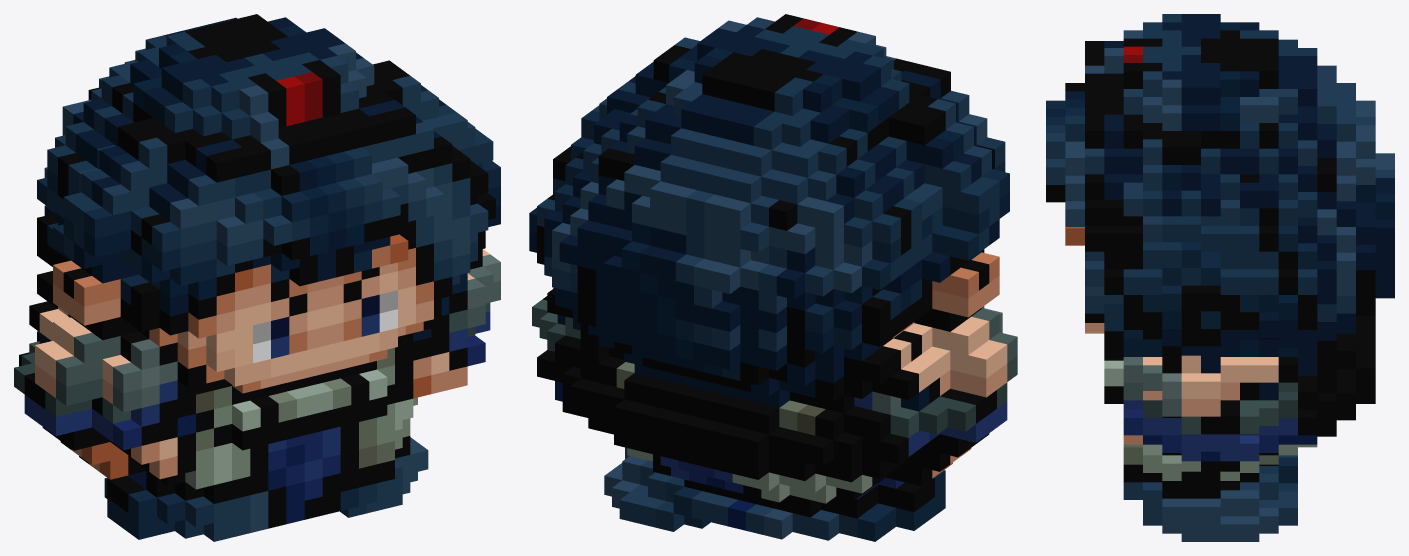
File: Icon_028_01.obj
3 views of the same model, side by side, from view 1: azimuth 30°, elevation 25°; view 2: azimuth 150°, elevation 25°; view 3: azimuth 270°, elevation 25° (orthographic). The views are drawn at different scales.
Size of the model in its own units: 2.4 by 2.4 by 1.8.
